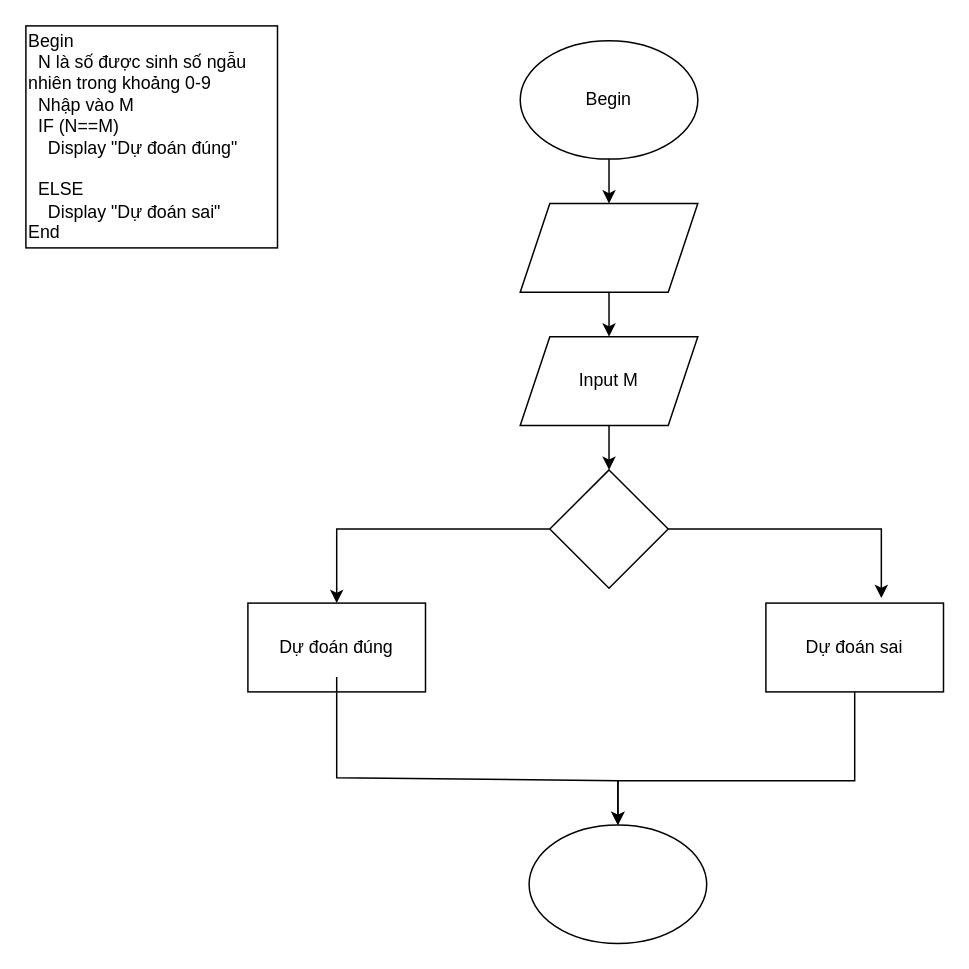
The diagram is 969 pixels wide and 969 high, and some of its shapes have lost their labels. Here are the shapes that lost their labels. From the top down, the centre of each, then its label:
pixel 608 247: Input N (0-9)
pixel 608 528: (N==M)
pixel 617 884: End
